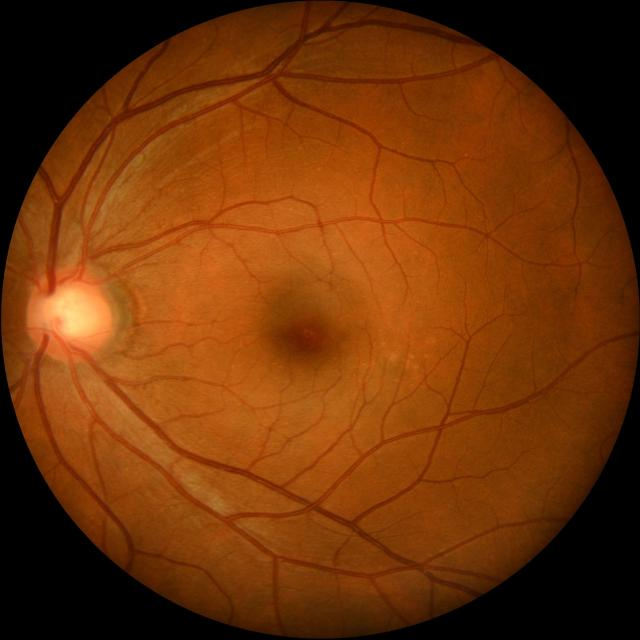OC: (41, 285, 96, 340)
OD: (26, 269, 111, 360)
